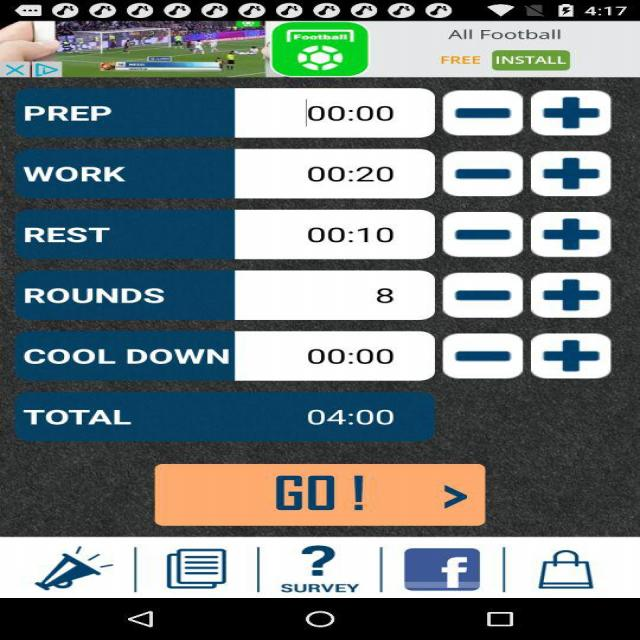button: (129, 453, 510, 524), (434, 145, 618, 197), (441, 80, 611, 135), (443, 330, 625, 379), (449, 266, 609, 320), (433, 212, 616, 258), (124, 541, 240, 602), (250, 539, 360, 602), (1, 542, 125, 597), (508, 536, 616, 596), (388, 544, 491, 594)
text: (1, 271, 209, 314), (4, 345, 248, 371), (12, 90, 181, 127), (19, 399, 164, 440), (14, 149, 158, 190), (19, 213, 137, 262), (281, 398, 425, 438), (287, 336, 434, 373), (292, 219, 417, 257), (283, 95, 423, 128), (300, 157, 412, 191), (346, 279, 426, 308)
